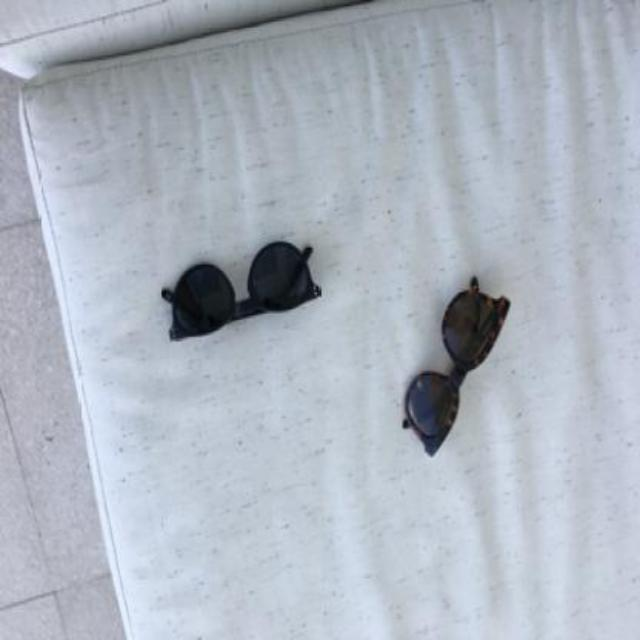sunglasses: (400, 273, 510, 459), (156, 242, 320, 342)
